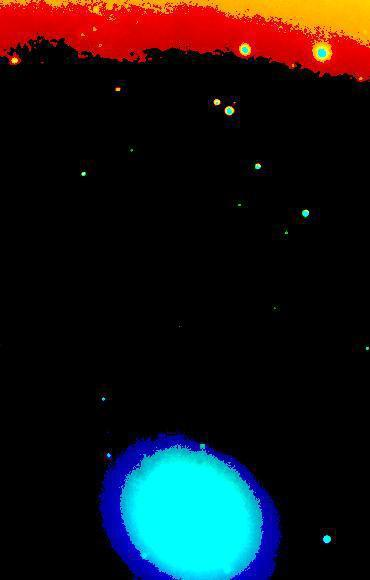star: (185, 430, 215, 460)
